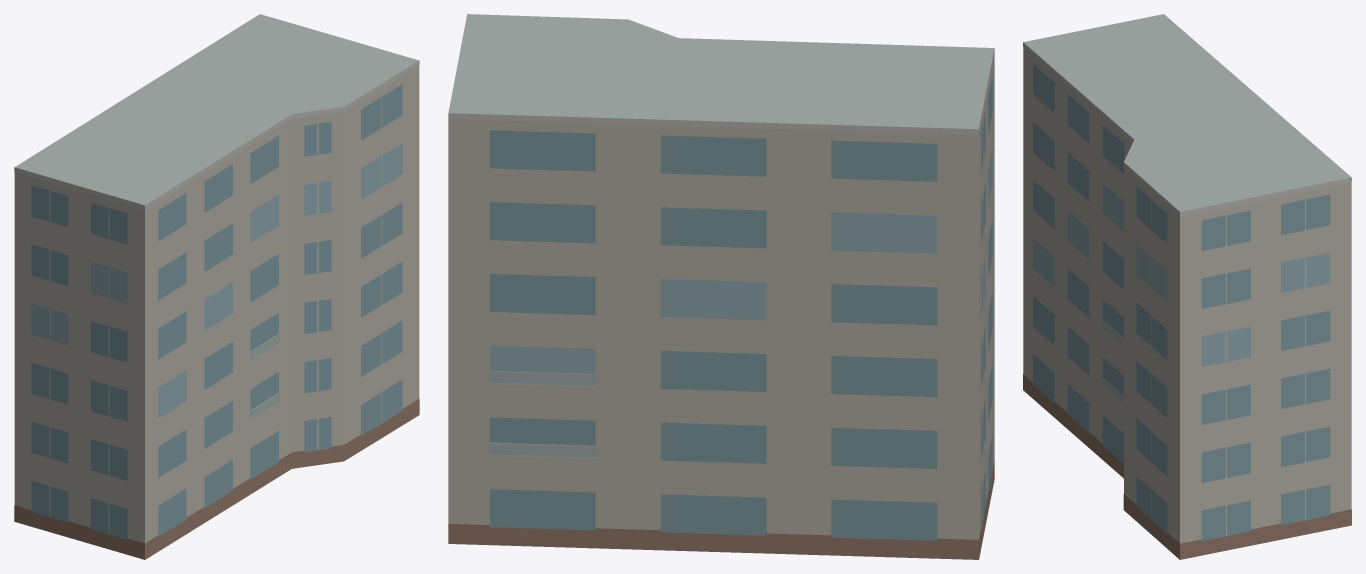
The model's file is survey-upis-32703748.glb.
3 views of the same model, side by side, from view 1: azimuth 30°, elevation 25°; view 2: azimuth 150°, elevation 25°; view 3: azimuth 270°, elevation 25° (orthographic). The views are drawn at different scales.
Parts seen in each view (by area): view 1: survey-upis-32703748.tmp; view 2: survey-upis-32703748.tmp; view 3: survey-upis-32703748.tmp.
Boxes of the visible parts, left/top/right/bottom form: survey-upis-32703748.tmp: left=14, top=14, right=419, bottom=559; survey-upis-32703748.tmp: left=448, top=14, right=994, bottom=559; survey-upis-32703748.tmp: left=1023, top=14, right=1351, bottom=559.
Size of the model in its own units: 22.33 by 18.3 by 15.67.
